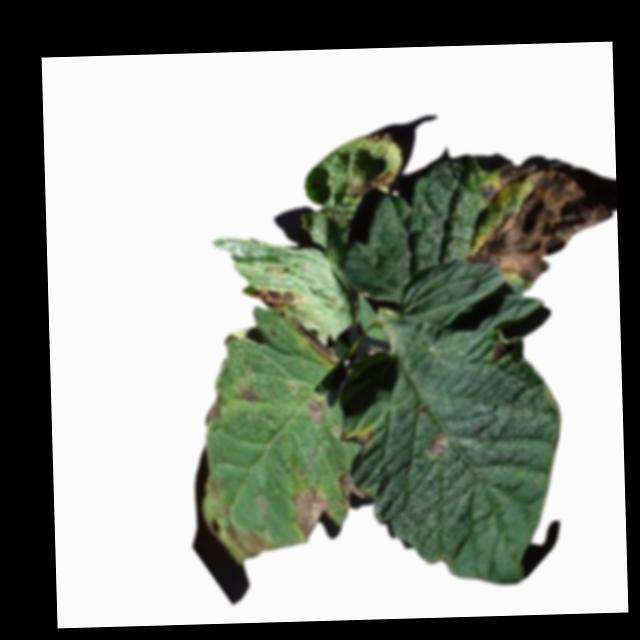Early_blight: (461, 161, 615, 285), (291, 485, 330, 543), (293, 319, 336, 368), (345, 167, 398, 197), (336, 467, 368, 513), (248, 284, 302, 310), (204, 391, 225, 425), (427, 429, 450, 457), (308, 399, 329, 423), (343, 428, 370, 445), (239, 381, 258, 403), (363, 131, 392, 144), (492, 339, 508, 360)
